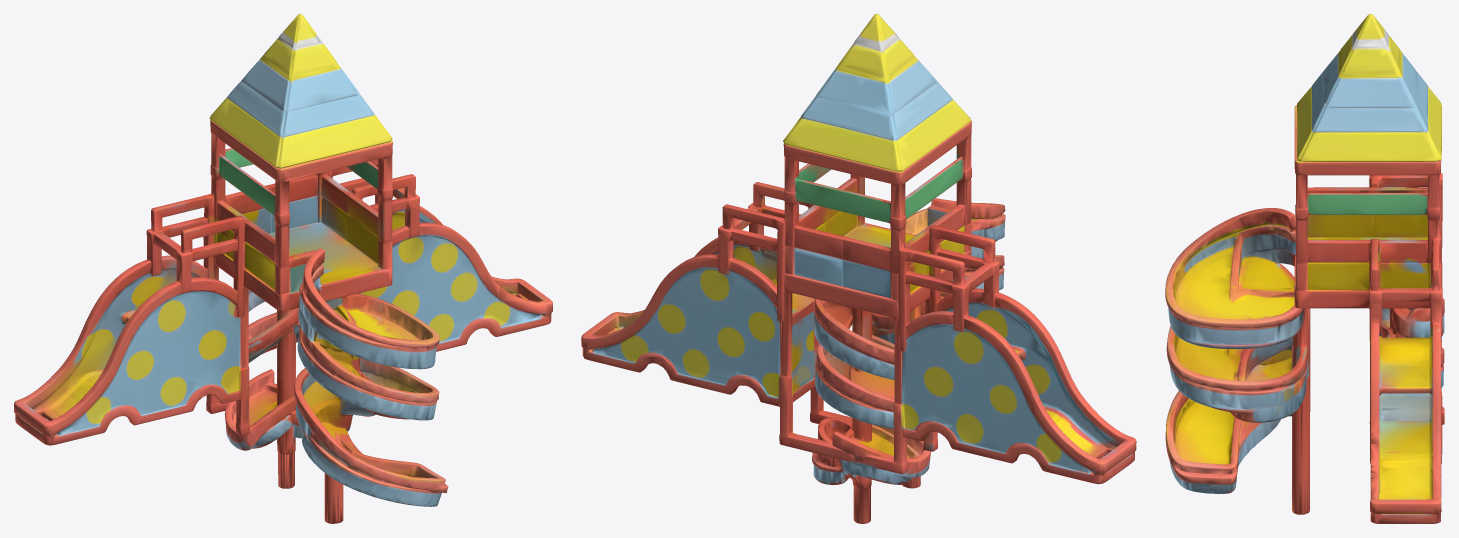
Rendered from child.glb.
3 views of the same model, side by side, from view 1: azimuth 30°, elevation 25°; view 2: azimuth 150°, elevation 25°; view 3: azimuth 270°, elevation 25° (orthographic). The views are drawn at different scales.
Parts seen in each view (by area): view 1: node_0; view 2: node_0; view 3: node_0.
Boxes of the visible parts, bbox=[...] form: node_0: bbox=[14, 14, 552, 523]; node_0: bbox=[581, 14, 1136, 523]; node_0: bbox=[1165, 14, 1444, 523].
Size of the model in its own units: 1.01 by 0.913 by 0.4663.
1 material, 1 textured.
